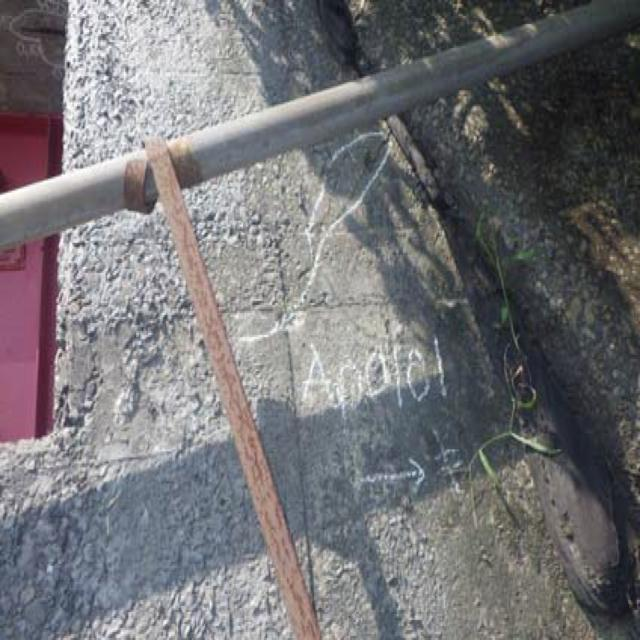corrosion: (116, 151, 340, 640)
